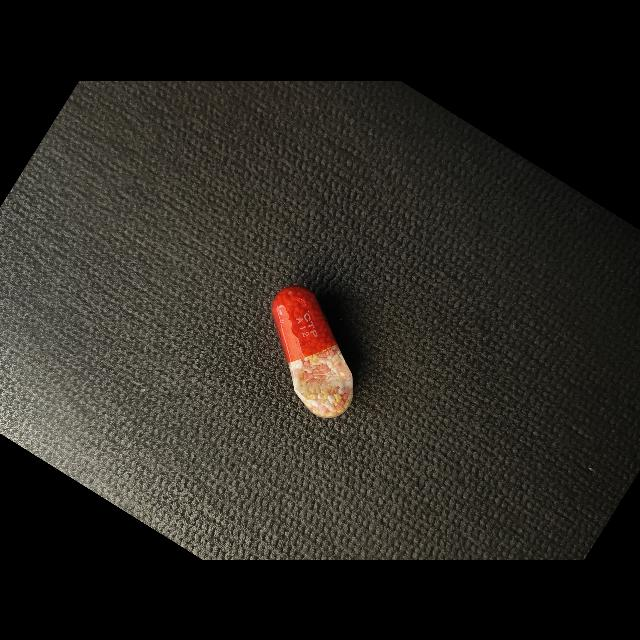Defective Capsule: (272, 285, 353, 418)
